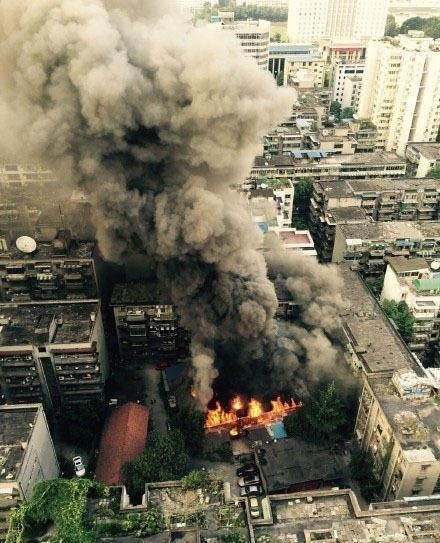fire: (202, 391, 297, 433)
